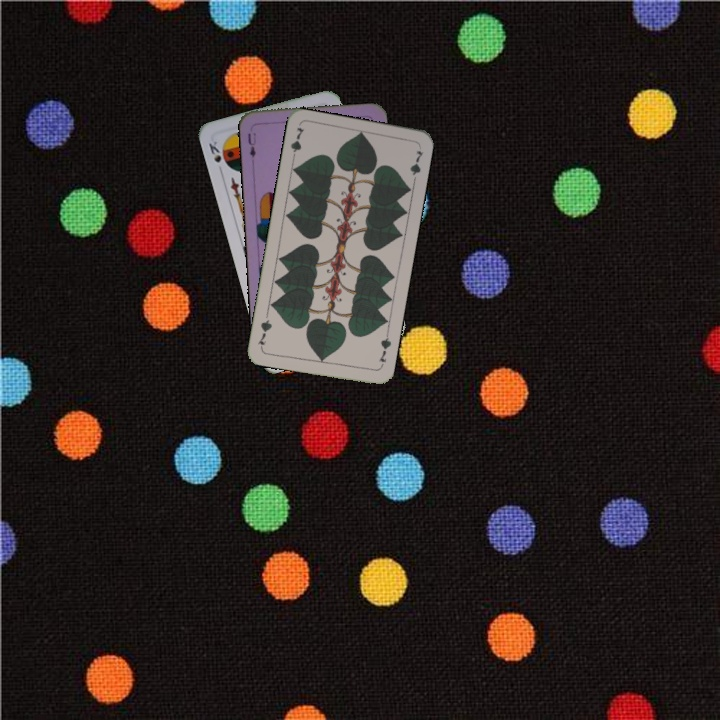EU: (244, 128, 258, 160)
G7: (286, 123, 307, 163), (374, 330, 394, 370)
SK: (205, 137, 225, 176)
